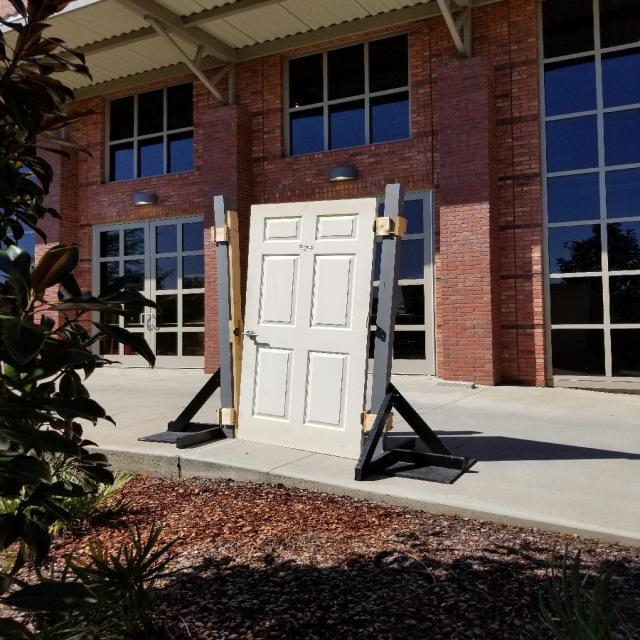door: (232, 196, 382, 464), (236, 328, 262, 342)
